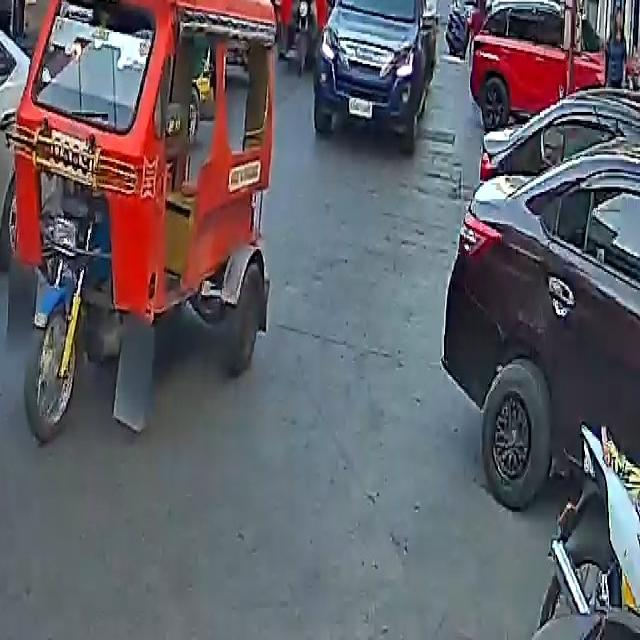car: (443, 76, 640, 534), (469, 0, 616, 130), (311, 0, 434, 137), (0, 0, 19, 316), (0, 206, 4, 640)
